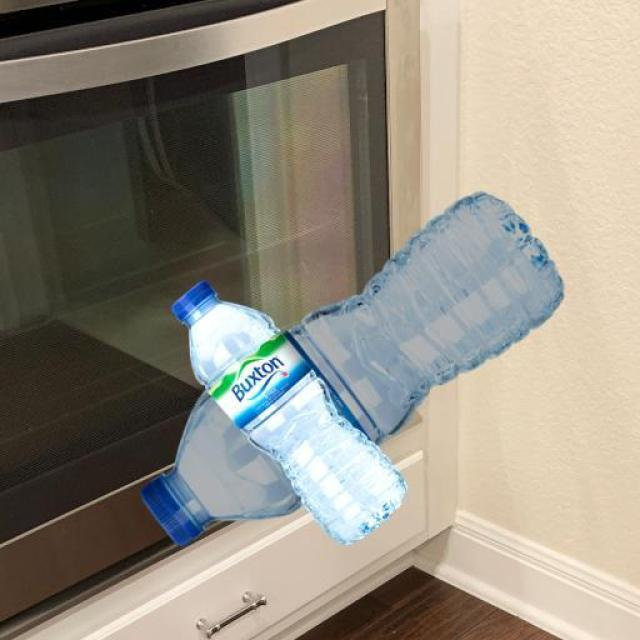bottle: (121, 185, 568, 552), (158, 268, 412, 547)
